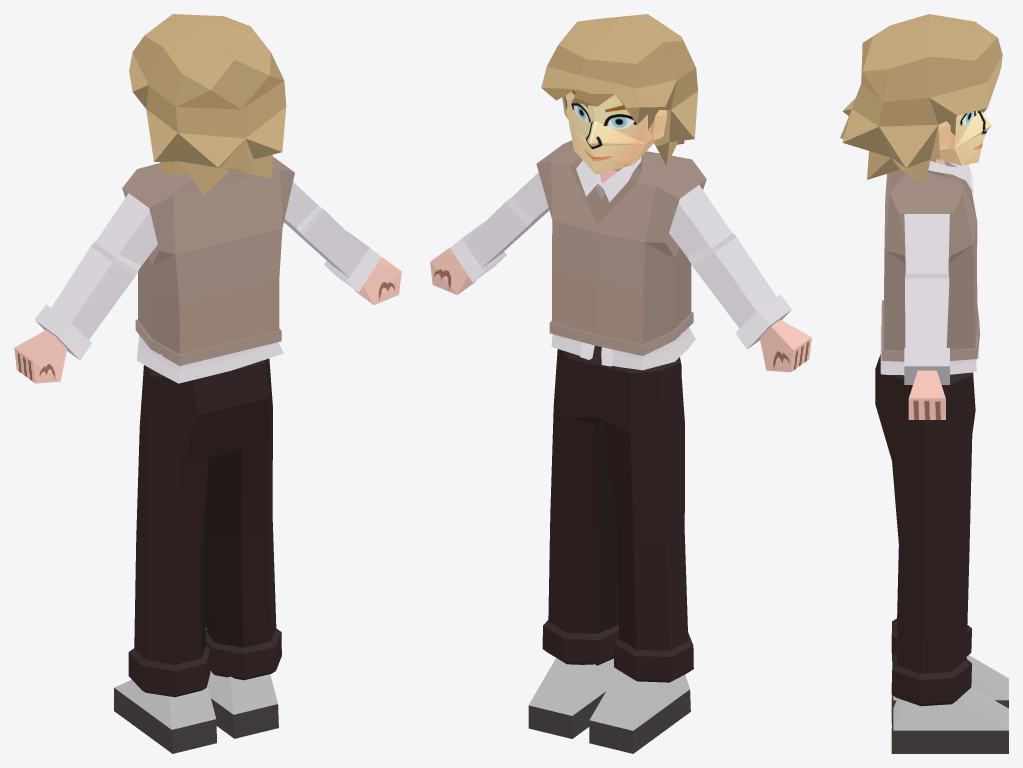
Rendered from yohan.glb.
The picture shows the model from 3 angles, left to right: view 1: azimuth 30°, elevation 25°; view 2: azimuth 150°, elevation 25°; view 3: azimuth 270°, elevation 25°; orthographic projection.
Parts seen in each view (by area): view 1: pants_leg, torso.001, head.004, arm.001, shoes, hand.001, shirt_bottom.001; view 2: pants_leg, torso.001, head.004, arm.001, shoes, hand.001, shirt_bottom.001, Plane; view 3: pants_leg, head.004, torso.001, shoes, arm.001, hand.001, shirt_bottom.001, Plane, ear.
Boxes of the visible parts, x1,y1,x2,y2 form: pants_leg: [128, 358, 281, 697]; torso.001: [122, 156, 294, 365]; head.004: [129, 14, 286, 194]; arm.001: [34, 182, 381, 360]; shoes: [114, 671, 278, 753]; hand.001: [14, 257, 401, 383]; shirt_bottom.001: [136, 335, 283, 383]; pants_leg: [542, 345, 693, 682]; torso.001: [536, 140, 706, 355]; head.004: [541, 14, 697, 174]; arm.001: [450, 172, 791, 349]; shoes: [528, 658, 690, 753]; hand.001: [430, 248, 811, 372]; shirt_bottom.001: [551, 327, 695, 370]; Plane: [576, 156, 641, 202]; pants_leg: [875, 354, 975, 706]; head.004: [840, 14, 1002, 183]; torso.001: [881, 170, 979, 361]; shoes: [891, 655, 1008, 753]; arm.001: [904, 160, 949, 384]; hand.001: [908, 370, 945, 419]; shirt_bottom.001: [880, 325, 979, 375]; Plane: [928, 161, 974, 194]; ear: [938, 121, 950, 150].
Size of the model in its own units: 1.26 by 2.3 by 0.4981.
Materials: 26 (2 with a texture image).
